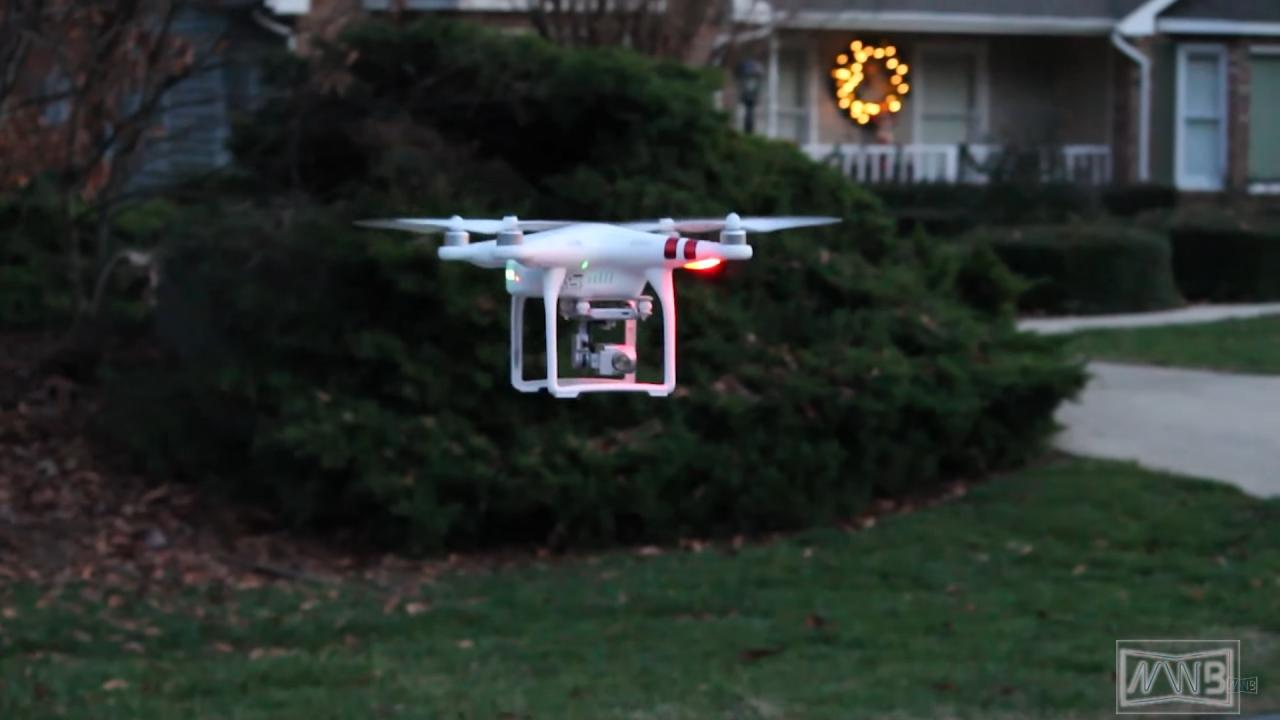Drone: (340, 202, 860, 409)
